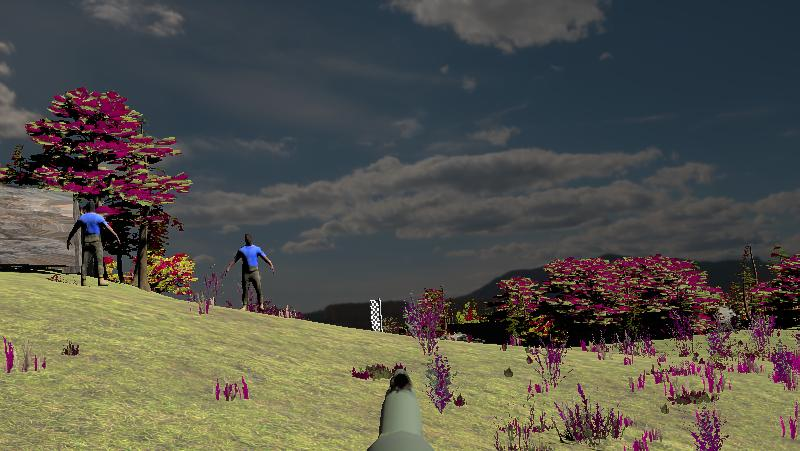Human: (67, 200, 120, 287), (226, 232, 274, 314)
